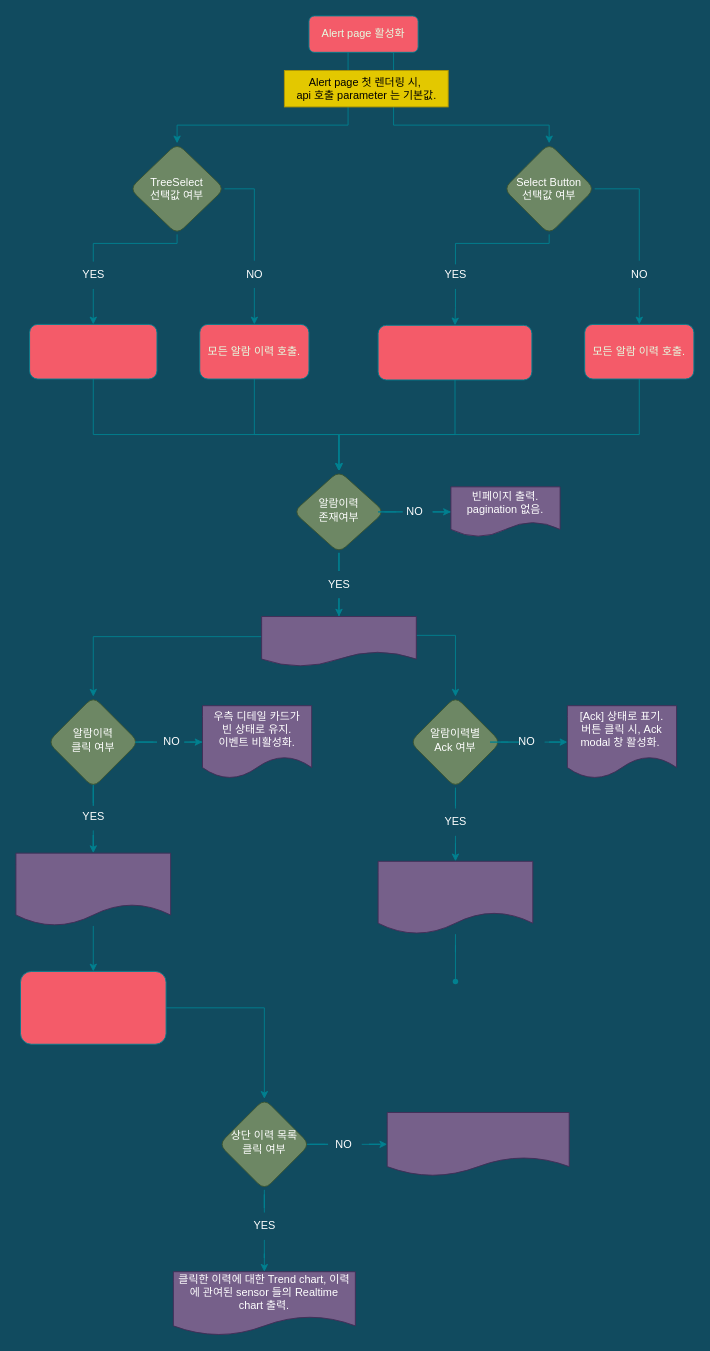
The diagram is 710 pixels wide and 1351 high, and some of its shapes have lost their labels. Here are the shapes that lost their labels. From the top down, the centre of each, then its label:
At pixel 93 351: "선택된 설비, 모터 하위의 알람 이력 호출.".
At pixel 454 352: "선택된 data 기준으로 filter 된 알람 이력 호출. (타입 or 위험도 or ack or 시간)".
At pixel 338 641: "한페이지당 8개의 이력 출력. pagination current 1".
At pixel 93 889: "우측 디테일 카드에 클릭한 이력의 상세정보 출력. [그래프 보기] 이벤트 활성화.".
At pixel 455 897: "[확인] 상태로 표기. 버튼클릭 시, 이미 확인했다는 메세지 출력.".
At pixel 93 1007: "[그래프 보기] 버튼 클릭 시, 해당 알람이 발생한 시간대의 chart data, realtime data, 과거 알람이력 호출".
At pixel 477 1144: "알람페이지 리스트에서 클릭한 알람의 Trend chart, 알람에 관여된 sensor 들의 Realtime chart 출력.".
